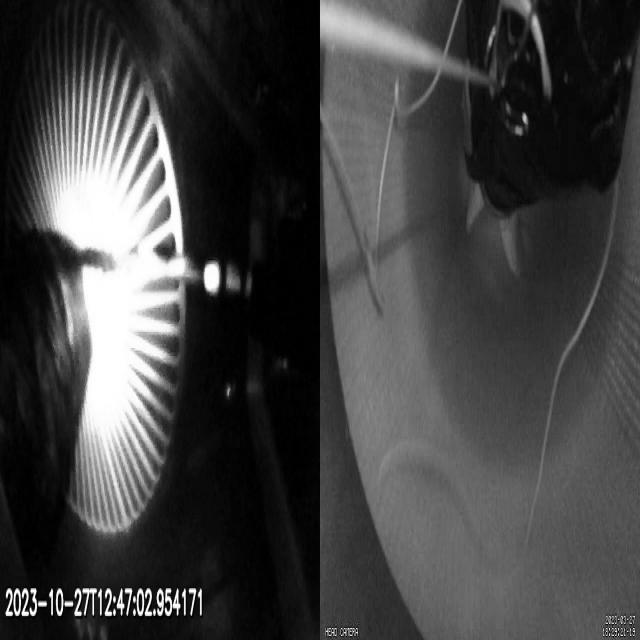white-dots: (203, 258, 252, 300)
